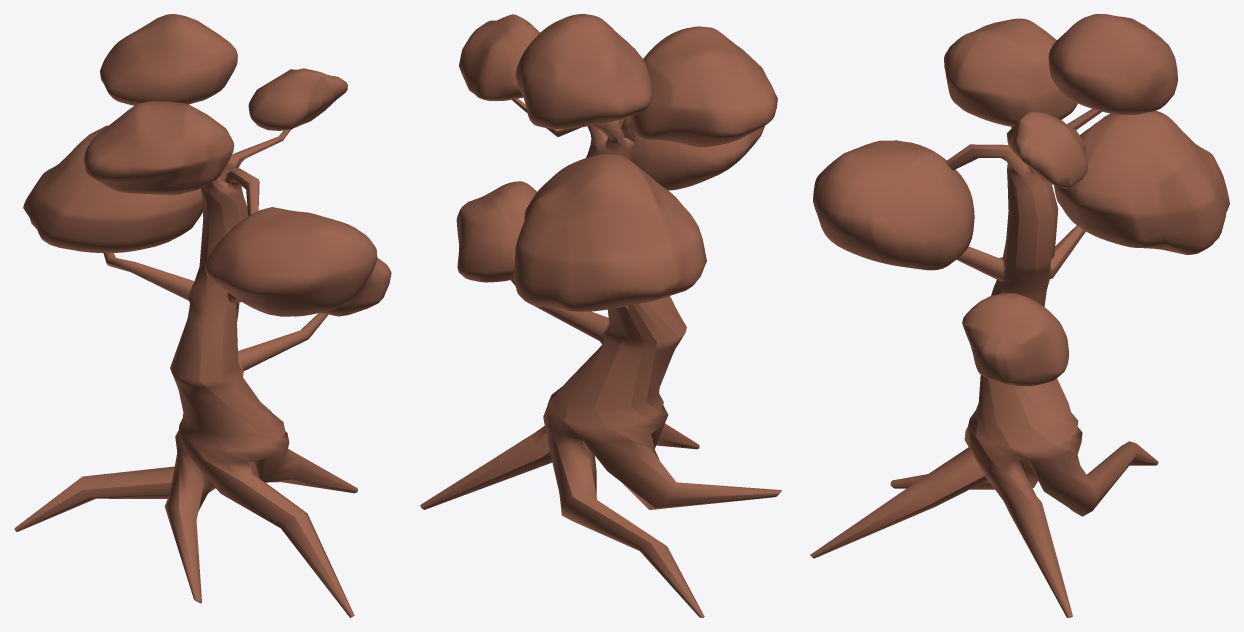
The model's file is Mesh_Hikari_Tree03.FBX.
The picture shows the model from 3 angles, left to right: view 1: azimuth 30°, elevation 25°; view 2: azimuth 150°, elevation 25°; view 3: azimuth 270°, elevation 25°; orthographic projection. The views are drawn at different scales.
Parts seen in each view (by area): view 1: Mesh_HikariTree03; view 2: Mesh_HikariTree03; view 3: Mesh_HikariTree03.
Part boxes in pixels (x1=…): Mesh_HikariTree03: x1=14, y1=14, x2=391, y2=617; Mesh_HikariTree03: x1=420, y1=14, x2=781, y2=617; Mesh_HikariTree03: x1=810, y1=14, x2=1229, y2=617.
Size of the model in its own units: 7.85 by 12.56 by 9.11.
